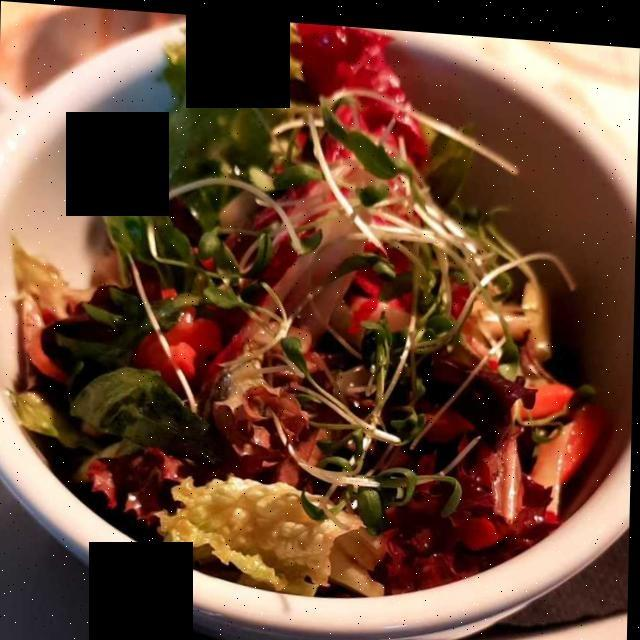salad: (22, 32, 593, 584)
